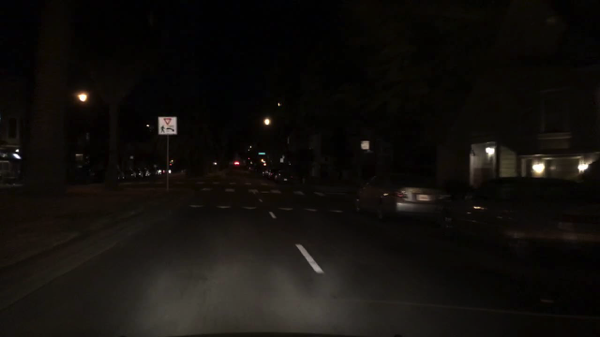car: (436, 174, 594, 265), (352, 171, 454, 226), (1, 141, 29, 176), (70, 163, 97, 183), (96, 163, 125, 180), (272, 169, 292, 185), (259, 166, 277, 178), (152, 165, 163, 176), (125, 169, 138, 178), (136, 169, 145, 179), (143, 167, 151, 178), (234, 161, 240, 166)
traffic sign: (157, 117, 177, 136)
